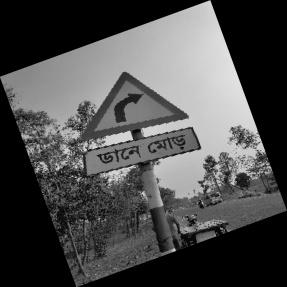Right-turn: (79, 71, 197, 179)
